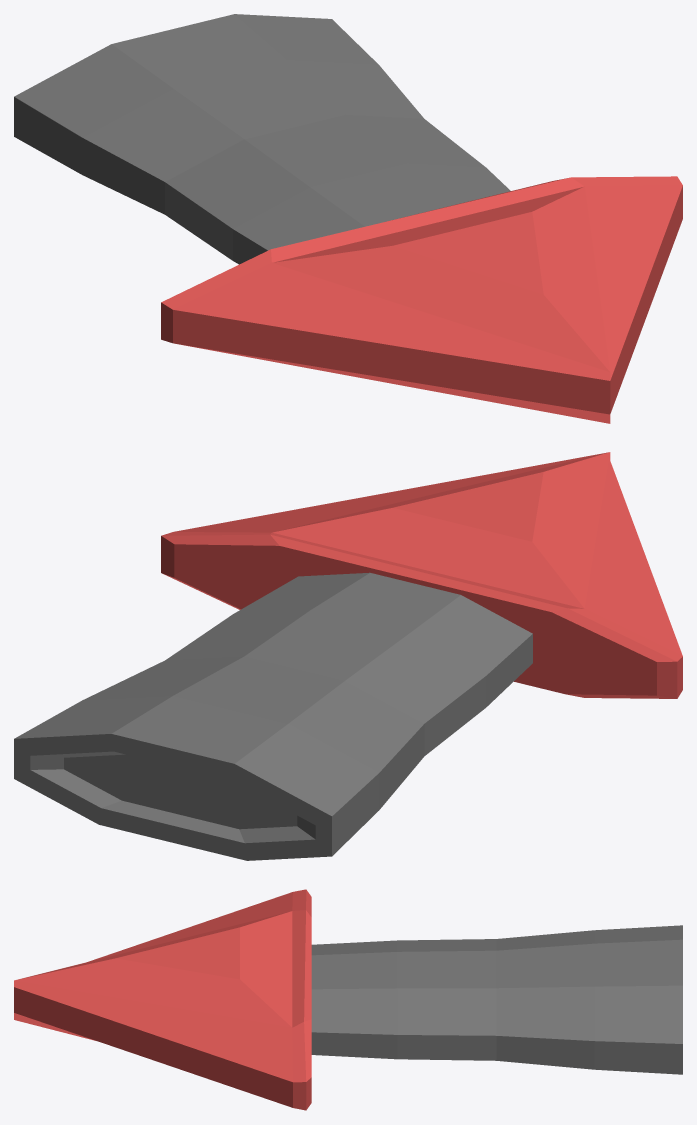
Rendered from Arrow.fbx.
3 renders of one model, top to bottom at view 1: azimuth 30°, elevation 25°; view 2: azimuth 150°, elevation 25°; view 3: azimuth 270°, elevation 25°, orthographic. The views are drawn at different scales.
Visible parts, largest first — view 1: Cube; view 2: Cube; view 3: Cube.
Part boxes in pixels (x1,y1,x2,y2): Cube: (14, 14, 682, 423); Cube: (14, 452, 682, 860); Cube: (14, 889, 682, 1110).
Size of the model in its own units: 63.67 by 12.99 by 93.39.
